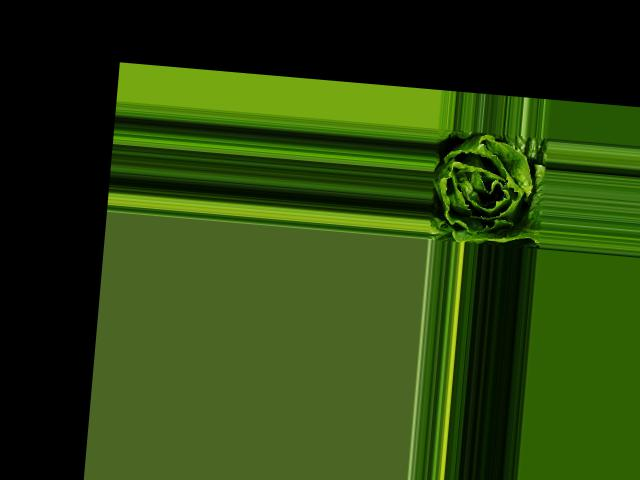lettuce: (429, 130, 549, 248)
